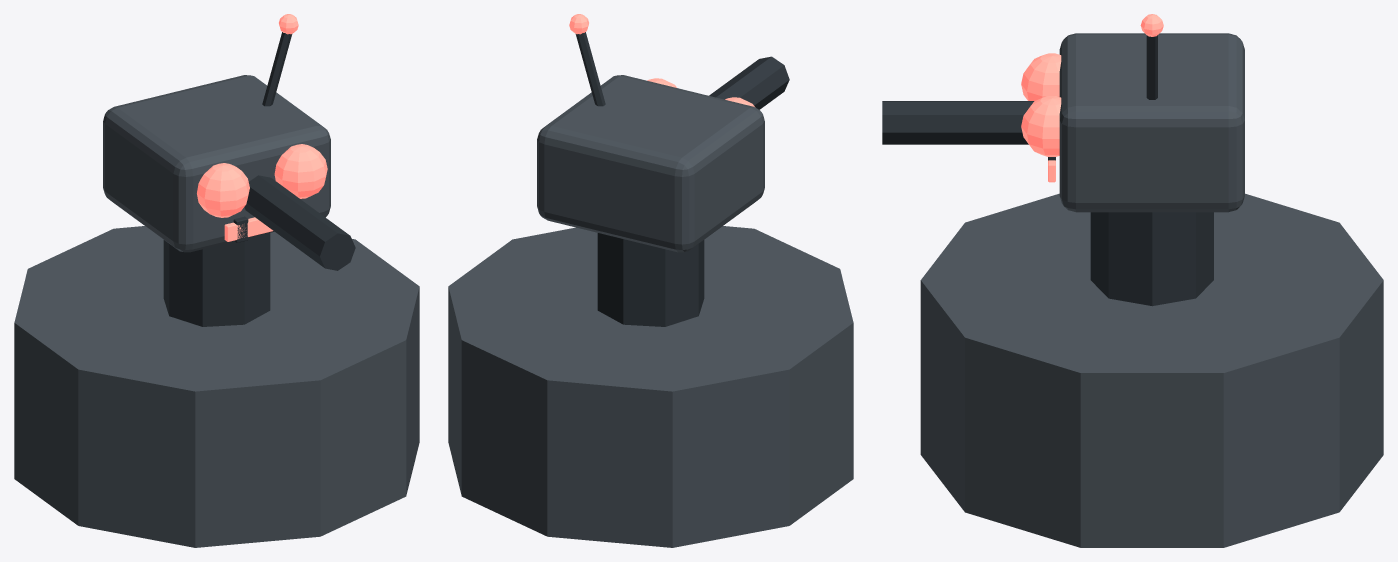
File: enemy_turret.glb
The picture shows the model from 3 angles, left to right: view 1: azimuth 30°, elevation 25°; view 2: azimuth 150°, elevation 25°; view 3: azimuth 270°, elevation 25°; orthographic projection. The views are drawn at different scales.
Visible parts, largest first — view 1: enemy_turret; view 2: enemy_turret; view 3: enemy_turret.
Boxes of the visible parts, x1,y1,x2,y2 form: enemy_turret: (14,14,419,547); enemy_turret: (448,14,853,547); enemy_turret: (882,14,1383,547).
Size of the model in its own units: 1.14 by 1.37 by 1.3.
